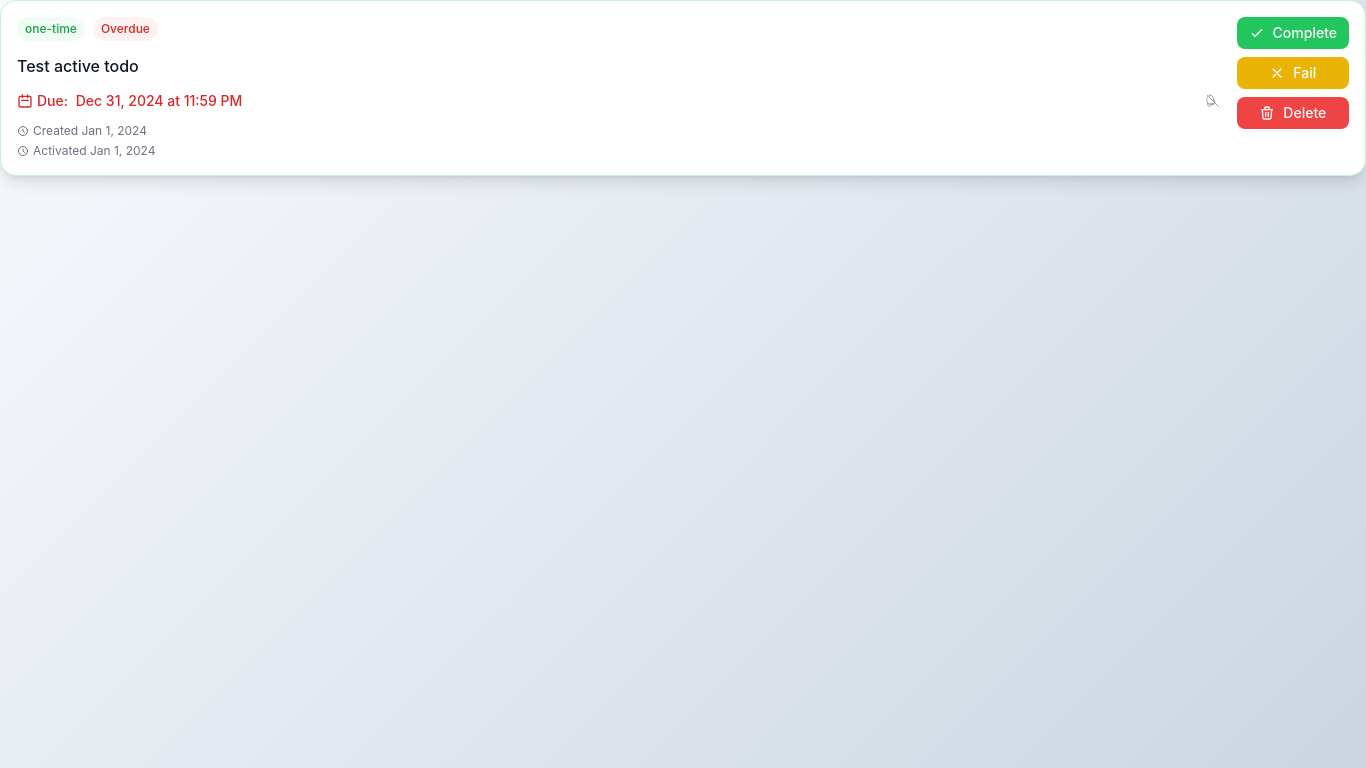
Test: ActiveTodoItem › should show date picker in edit mode for one-time tasks
Note: Enter edit mode
Click the button "Test active todo" at x=78, y=66, box [17, 56, 139, 76]
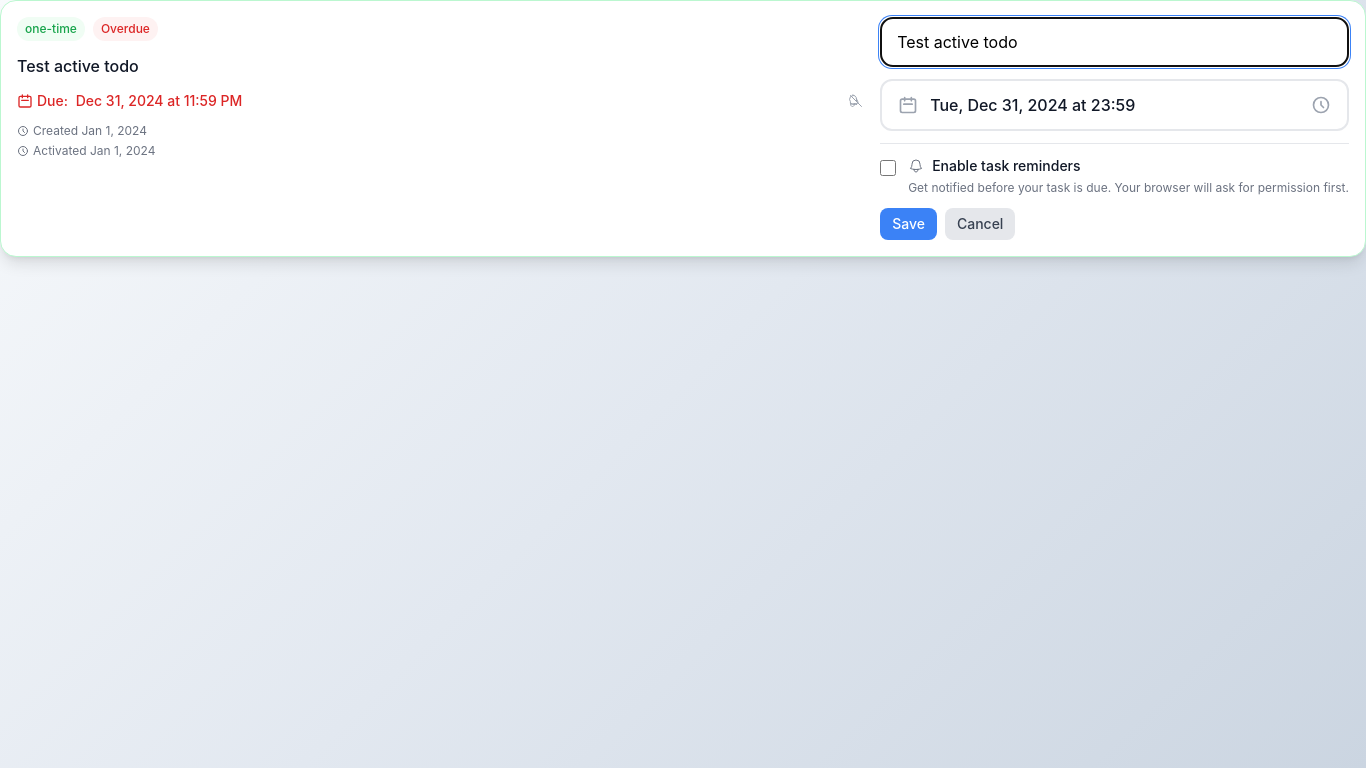
Check: the button with test id "custom-datetime-picker" is shown, box [880, 79, 1349, 131]
